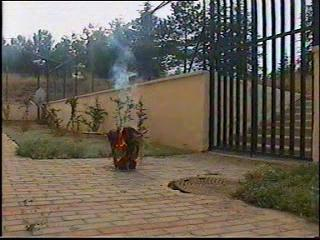fire: (139, 86, 206, 154)
